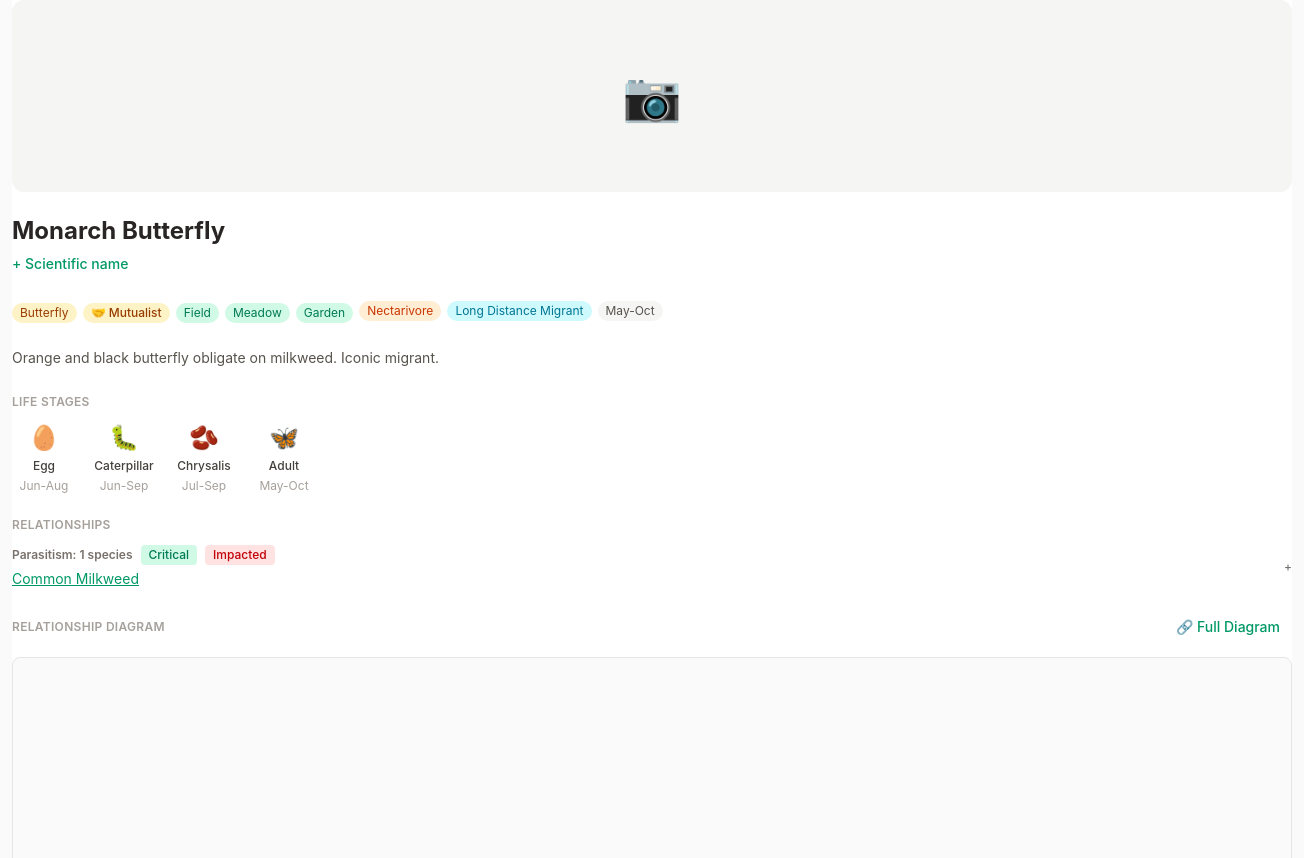
Test: SpeciesCard › hides latin name by default and reveals on toggle
This screenshot has width=1304, height=858.
Expected: the text "Danaus plexippus" is not shown
Click the button "+ Scientific name" at [70, 264], box 12,254 -> 128,274
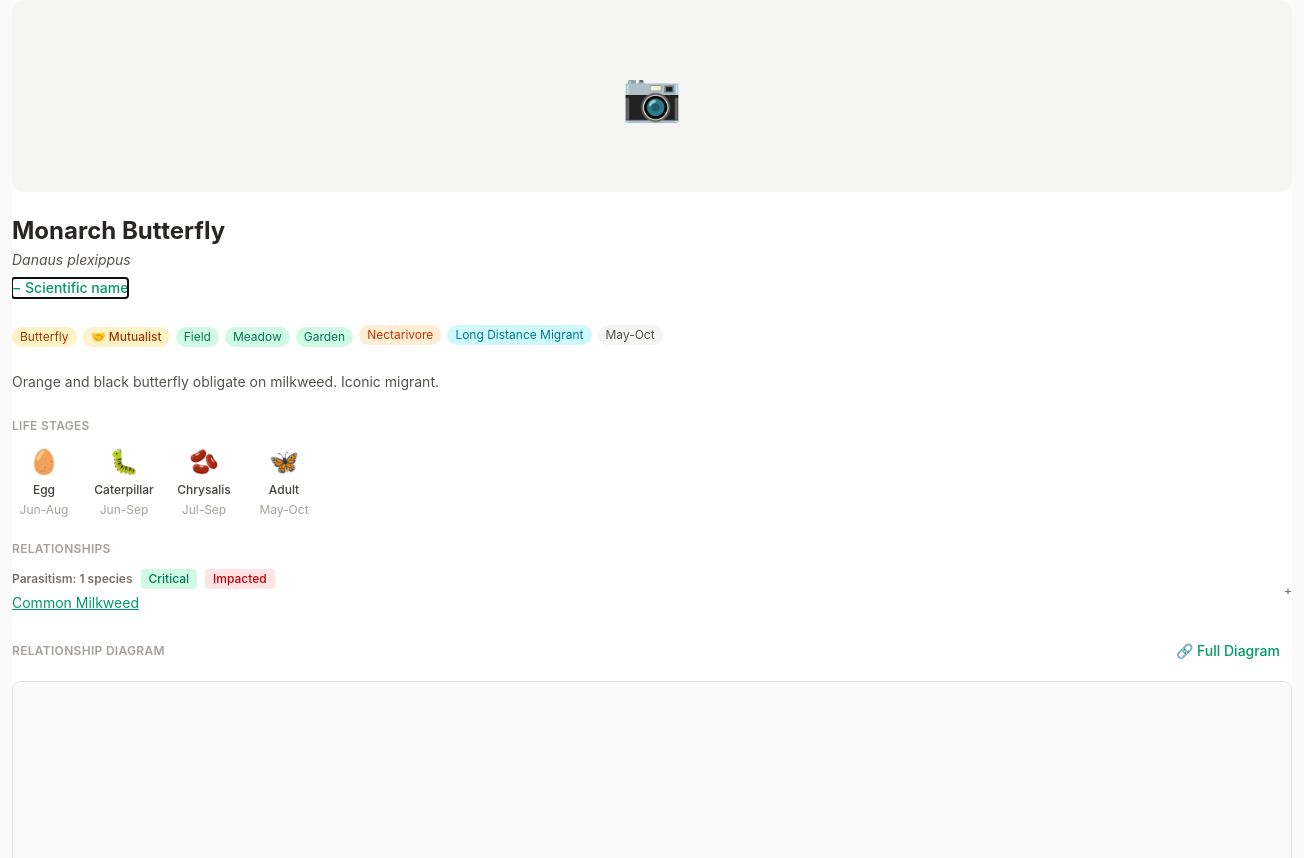
Expected: the text "Danaus plexippus" is shown, 12,251 -> 131,268
